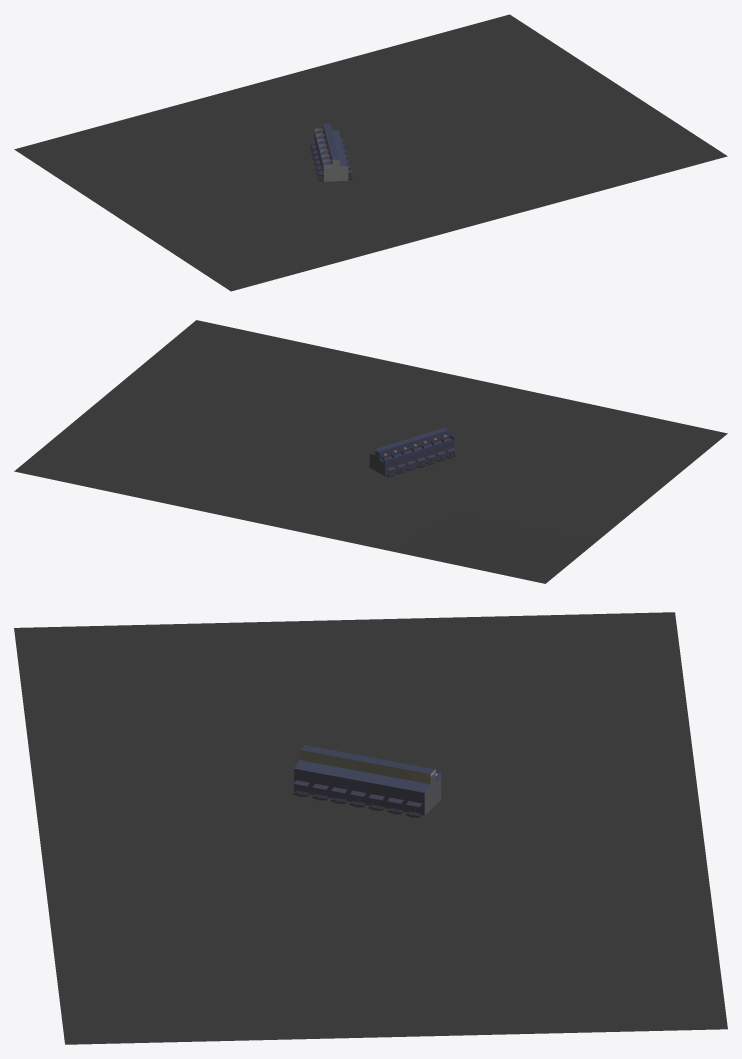
Rendered from adams-town.glb.
The picture shows the model from 3 angles, top to bottom: view 1: azimuth 30°, elevation 25°; view 2: azimuth 150°, elevation 25°; view 3: azimuth 270°, elevation 25°; orthographic projection. The views are drawn at different scales.
Parts seen in each view (by area): view 1: LOD0; view 2: LOD0; view 3: LOD0.
Boxes of the visible parts, bbox=[...] form: LOD0: bbox=[14, 14, 727, 291]; LOD0: bbox=[14, 320, 727, 583]; LOD0: bbox=[14, 612, 727, 1044].
Size of what is drawn, in the model's own units: 272 by 11.09 by 191.
1 material, 1 textured.
